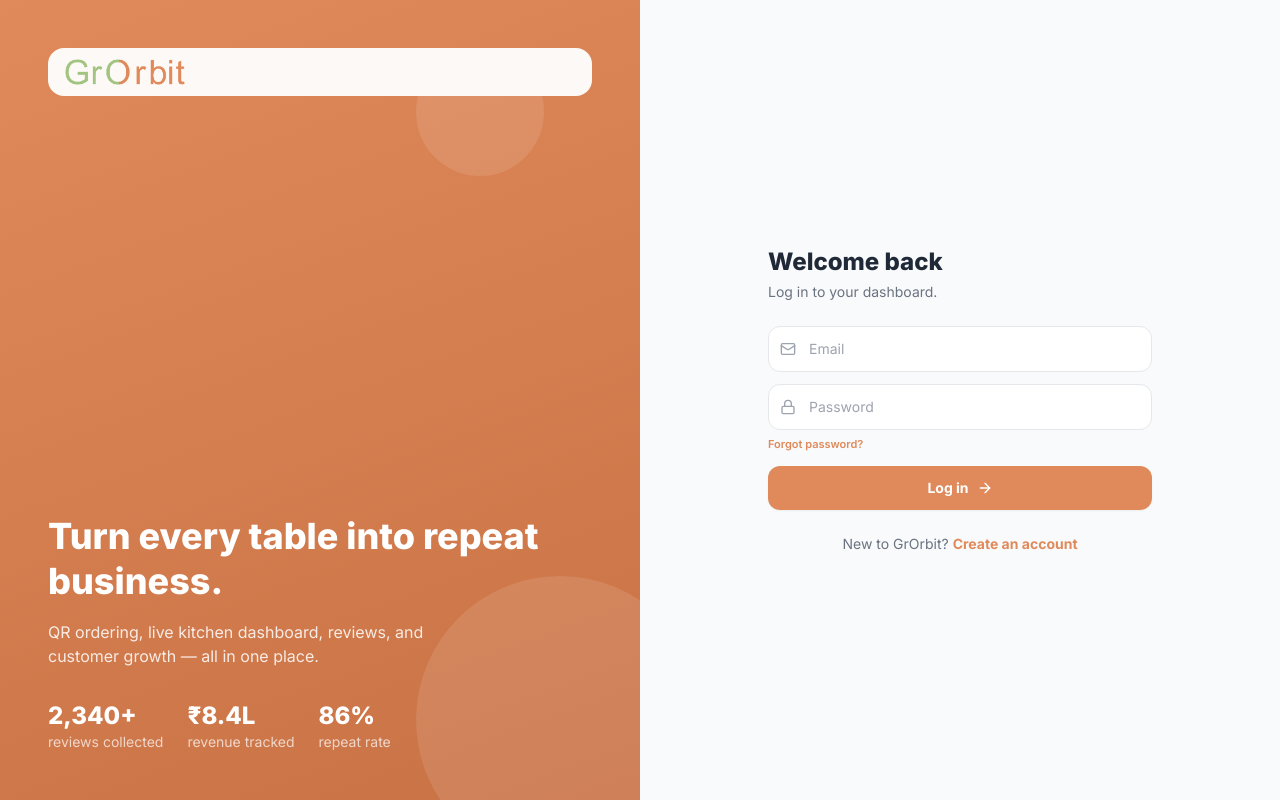
it: signup requires a contact number › rejects signup without a valid phone
Click the button "Create an account" at (1015, 544), box [953,534,1078,554]
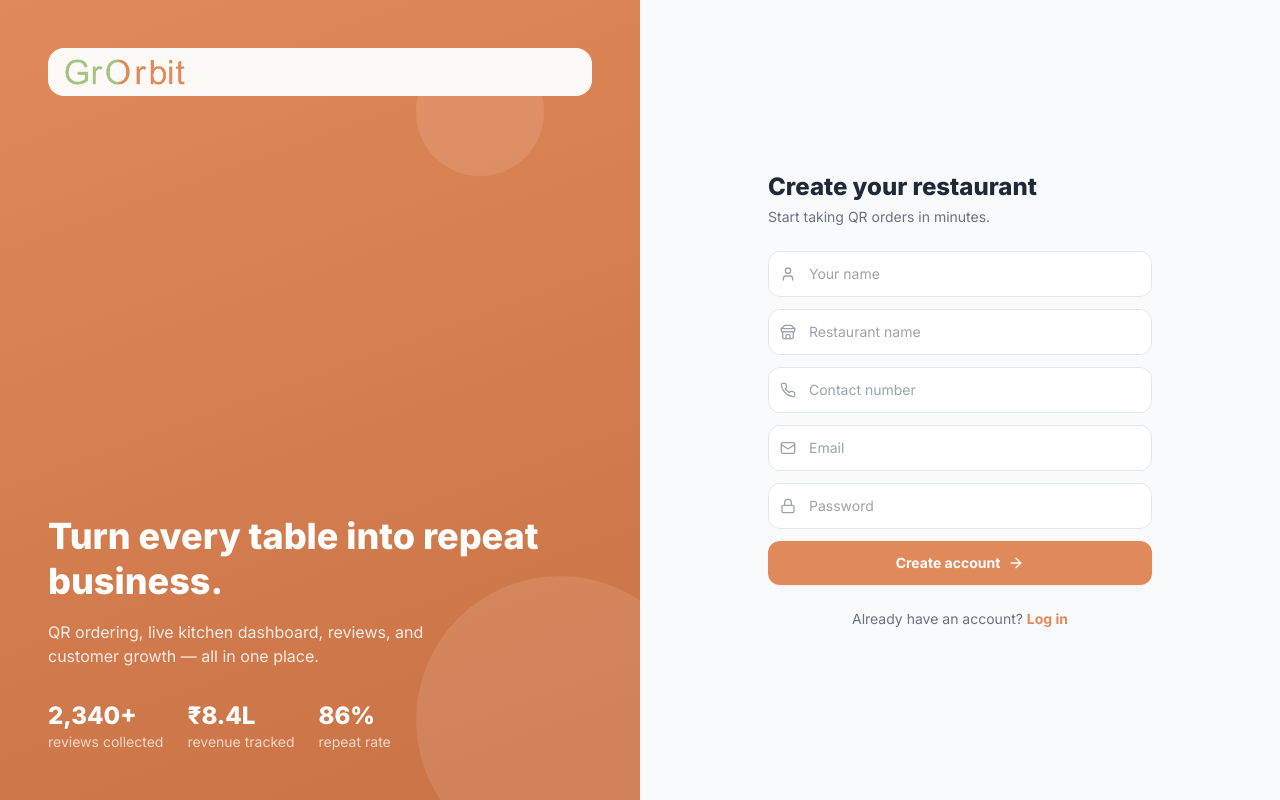
Type "Asha" into the field with placeholder "Your name" at (960, 274), box [768,251,1152,297]
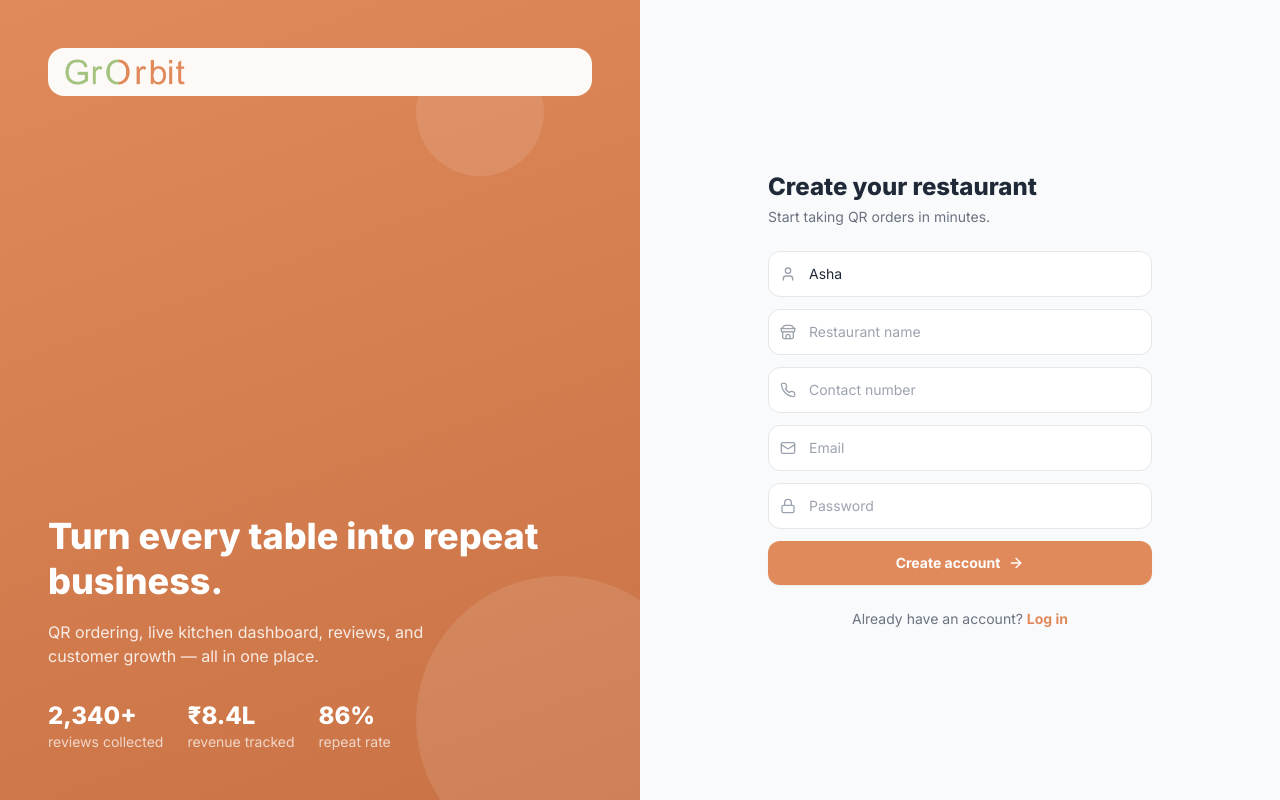
Type "Asha Cafe" into the field with placeholder "Restaurant name" at (960, 332), box [768,309,1152,355]
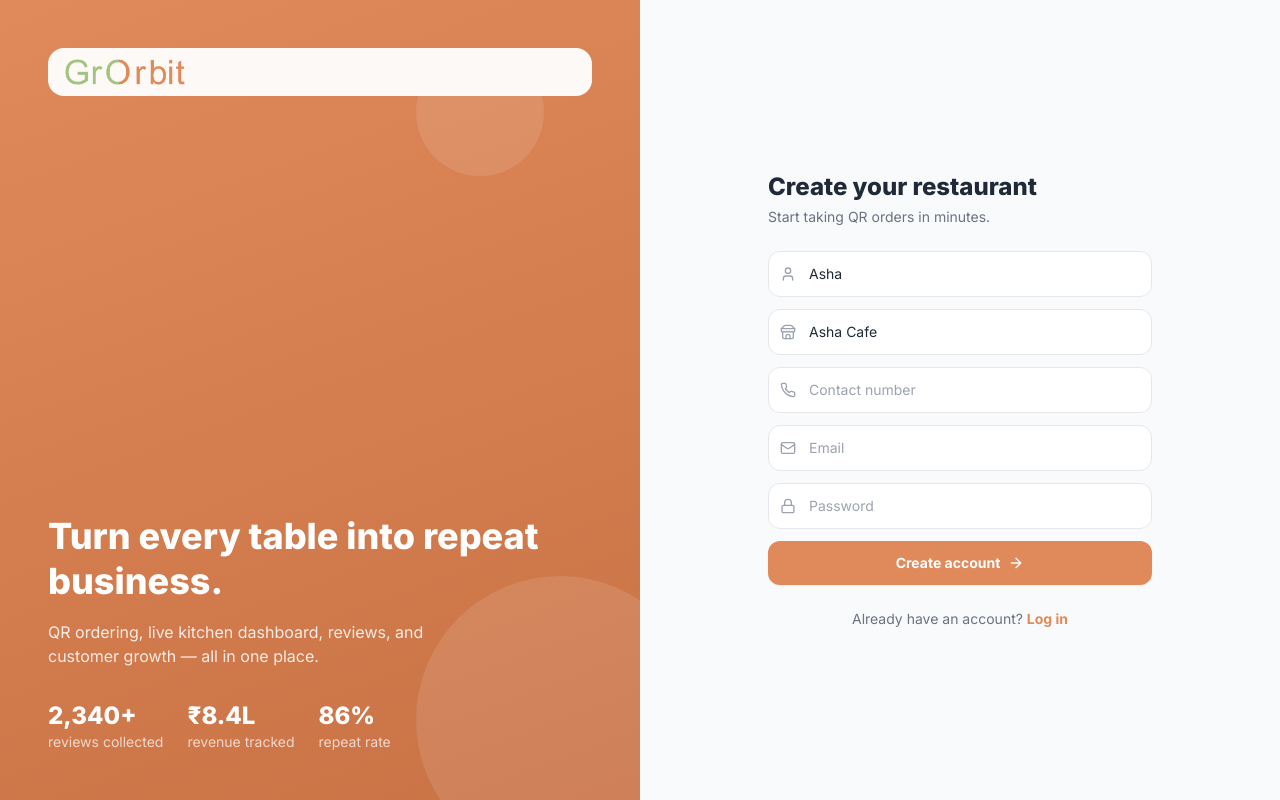
Type "asha@test.in" into the field with placeholder "Email" at (960, 448), box [768,425,1152,471]
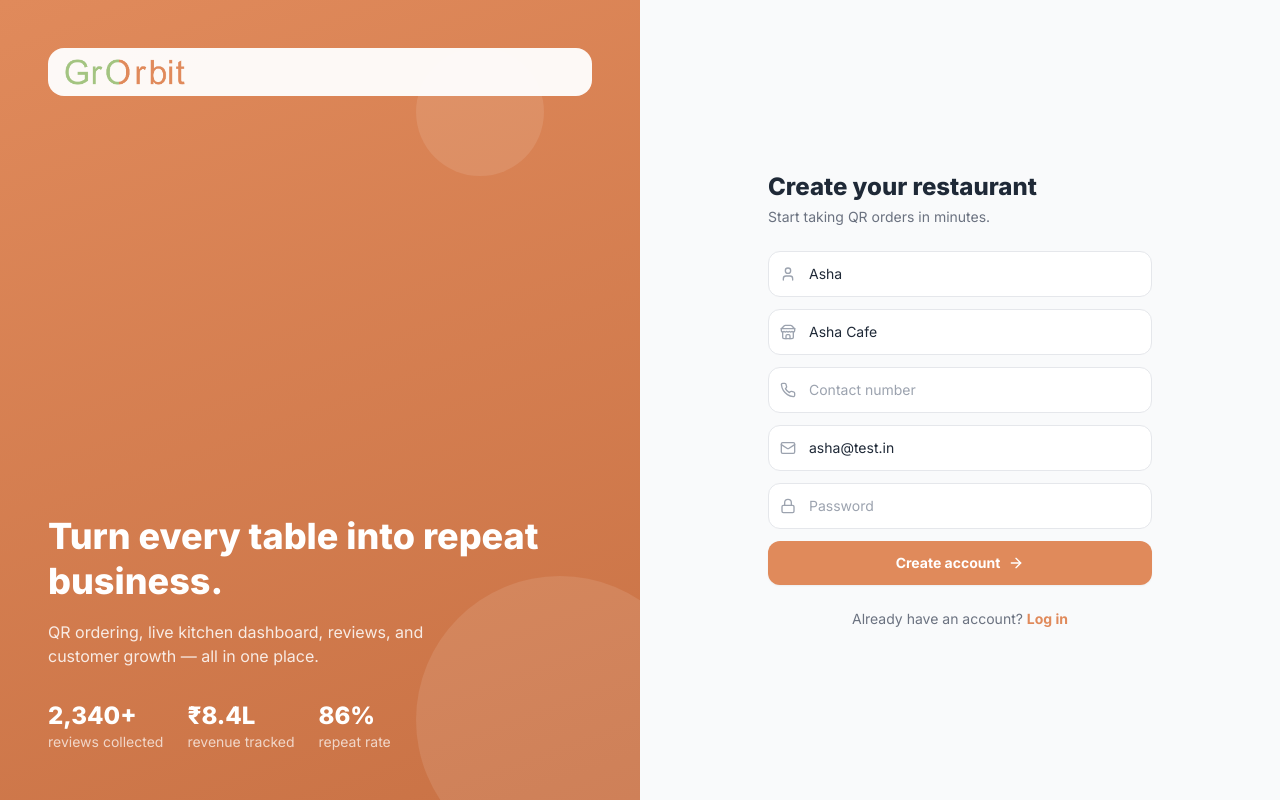
Type "StrongPass1" into the password field with placeholder "Password" at (960, 506), box [768,483,1152,529]
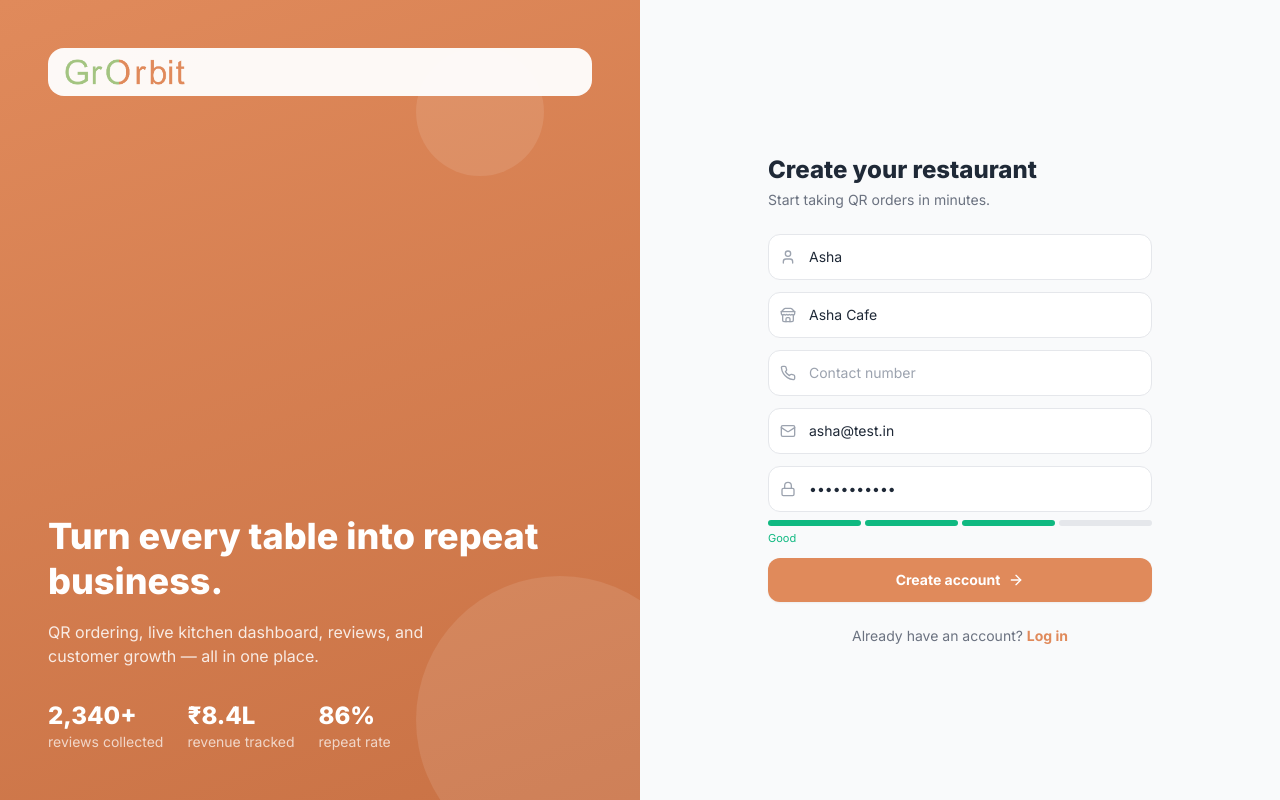
Click the button "Create account" at (960, 580), box [768,558,1152,602]
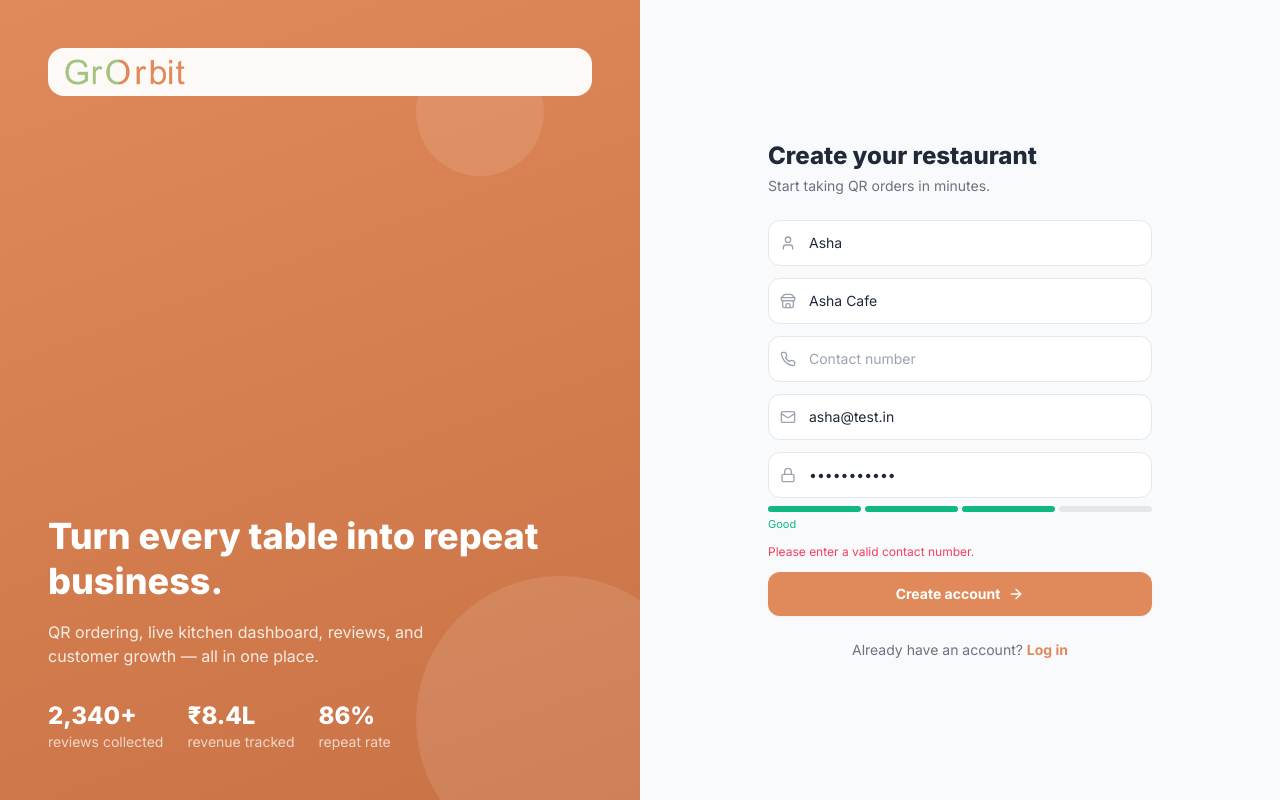
Result: the text "Please enter a valid contact number." is shown at [768,544,974,559]
